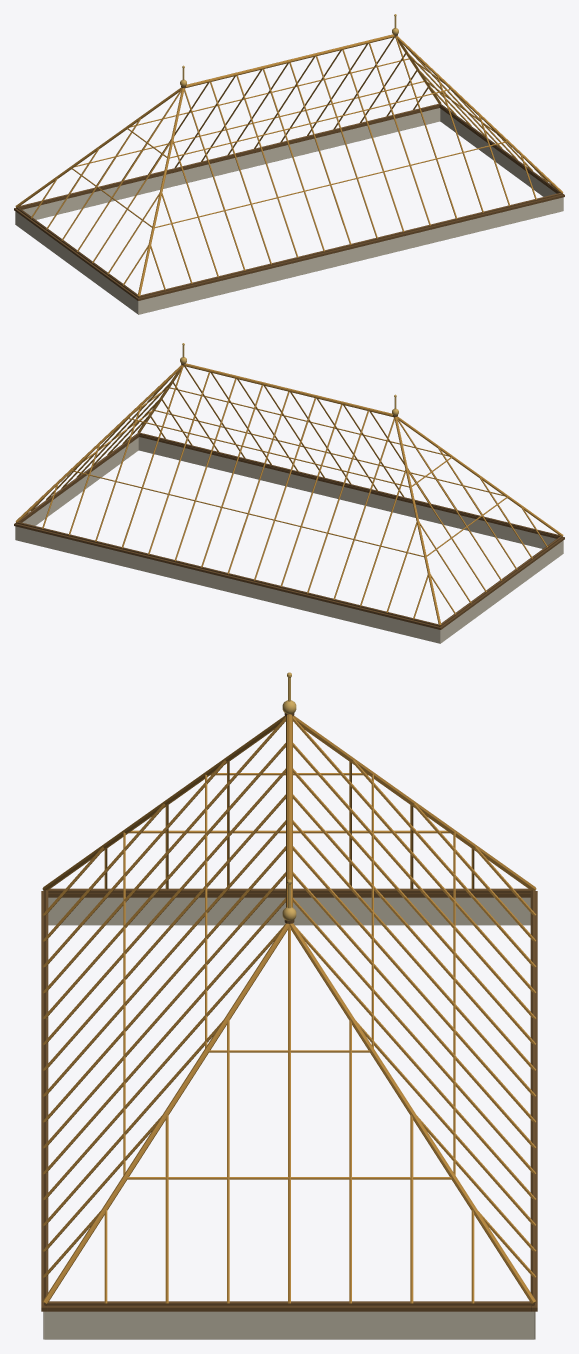
Rendered from prop_of_lantern.glb.
3 views of the same model, one above another, from view 1: azimuth 30°, elevation 25°; view 2: azimuth 150°, elevation 25°; view 3: azimuth 270°, elevation 25° (orthographic). The views are drawn at different scales.
Visible parts, largest first — view 1: Lantern, Curb; view 2: Lantern, Curb; view 3: Lantern, Curb.
Boxes of the visible parts, x1,y1,x2,y2 form: Lantern: (15,14,563,297); Curb: (14,105,564,314); Lantern: (15,343,563,626); Curb: (14,434,564,643); Lantern: (42,672,536,1305); Curb: (41,891,537,1339).
Size of the model in its own units: 16.12 by 6.43 by 8.12.
